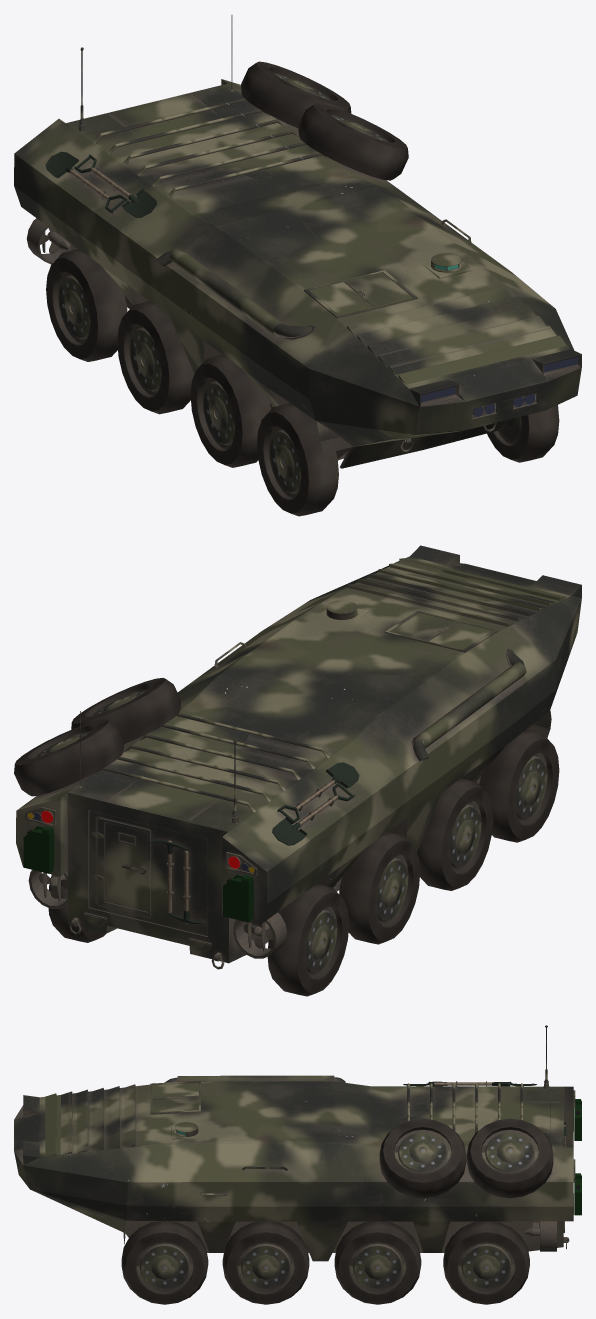
File: hull.fbx
The picture shows the model from 3 angles, top to bottom: view 1: azimuth 30°, elevation 25°; view 2: azimuth 150°, elevation 25°; view 3: azimuth 270°, elevation 25°; orthographic projection. The views are drawn at different scales.
Visible parts, largest first — view 1: hull_LOD0, wheel5_LOD0, wheel8_LOD0, wheel6_LOD0, wheel7_LOD0, wheel1_LOD0; view 2: hull_LOD0, wheel7_LOD0, wheel8_LOD0, wheel5_LOD0, wheel6_LOD0, wheel4_LOD0; view 3: hull_LOD0, wheel1_LOD0, wheel2_LOD0, wheel3_LOD0, wheel4_LOD0.
Boxes of the visible parts, x1,y1,x2,y2 form: hull_LOD0: (14,15,581,468); wheel5_LOD0: (257,403,338,516); wheel8_LOD0: (46,249,127,361); wheel6_LOD0: (190,355,270,467); wheel7_LOD0: (117,301,194,414); wheel1_LOD0: (487,405,559,462); hull_LOD0: (14,545,581,969); wheel7_LOD0: (339,832,420,944); wheel8_LOD0: (267,884,349,996); wheel5_LOD0: (479,730,559,842); wheel6_LOD0: (417,778,493,890); wheel4_LOD0: (48,875,106,942); hull_LOD0: (14,1025,581,1261); wheel1_LOD0: (121,1221,208,1304); wheel2_LOD0: (222,1221,309,1304); wheel3_LOD0: (334,1221,421,1304); wheel4_LOD0: (443,1221,529,1304).
Size of what is drawn, in the model's own units: 5.03 by 4.4 by 10.94.
